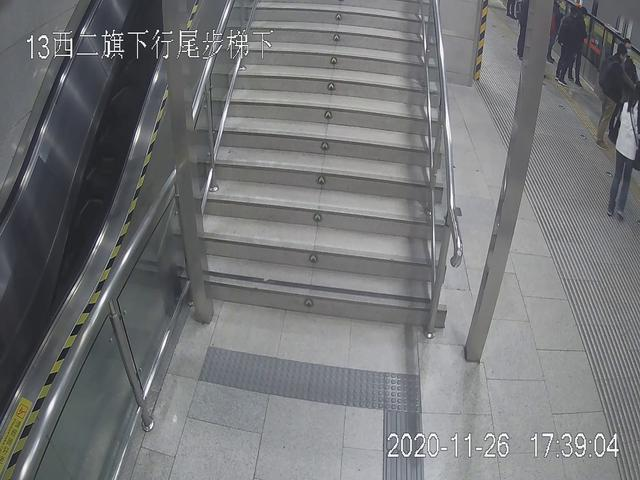person: (610, 90, 640, 219), (599, 44, 632, 146), (555, 5, 578, 86)
